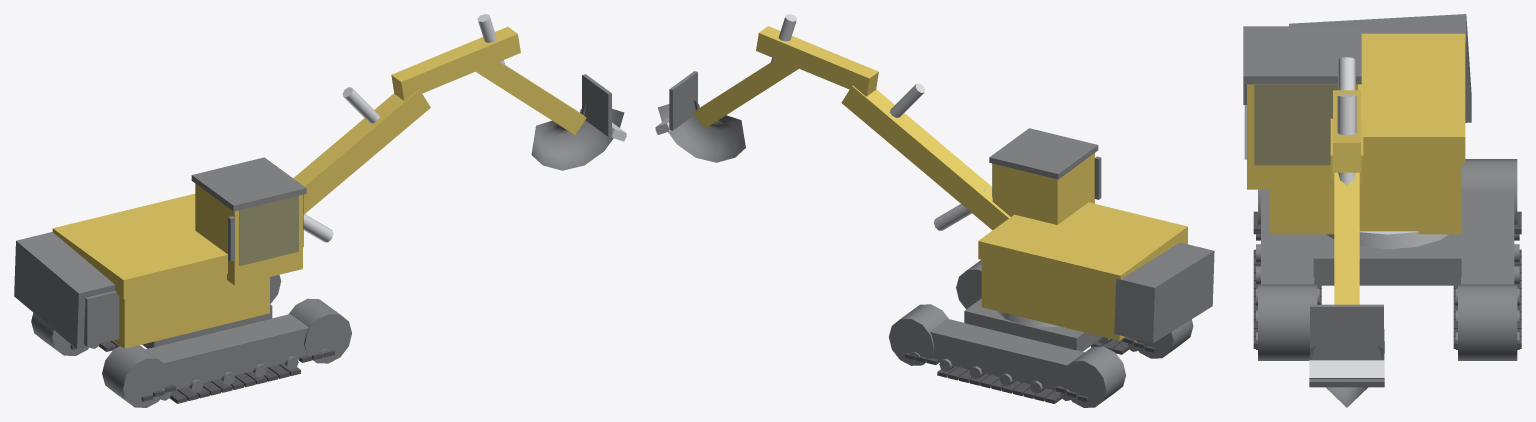
Rendered from excavator.glb.
The picture shows the model from 3 angles, left to right: view 1: azimuth 30°, elevation 25°; view 2: azimuth 150°, elevation 25°; view 3: azimuth 270°, elevation 25°; orthographic projection. The views are drawn at different scales.
Parts seen in each view (by area): view 1: safety, darkMetal, glassDark, rubber, metal; view 2: safety, darkMetal, rubber, metal; view 3: darkMetal, safety, glassDark, metal, rubber.
Boxes of the visible parts, box(x1,y1,x2,y2) form: safety: box(52, 26, 586, 348); darkMetal: box(14, 74, 624, 407); glassDark: box(239, 194, 303, 265); rubber: box(70, 340, 334, 403); metal: box(303, 14, 626, 242); safety: box(693, 26, 1187, 340); darkMetal: box(657, 71, 1214, 407); rubber: box(905, 304, 1155, 403); metal: box(655, 14, 1059, 327); darkMetal: box(1243, 14, 1519, 407); safety: box(1247, 33, 1465, 304); glassDark: box(1244, 83, 1337, 165); metal: box(1309, 57, 1448, 387); rubber: box(1253, 211, 1521, 348).
Bounding box in the file's own units: 12.45 × 5.9 × 3.76.
